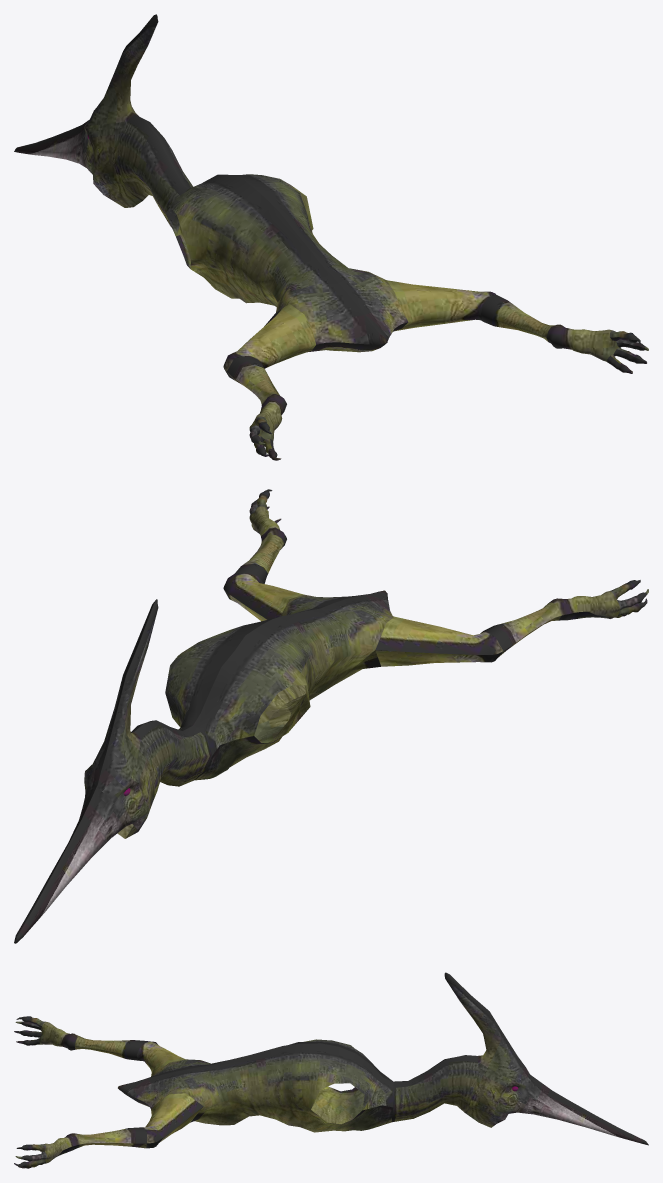
The model's file is D2_torso.obj.
The picture shows the model from 3 angles, top to bottom: view 1: azimuth 30°, elevation 25°; view 2: azimuth 150°, elevation 25°; view 3: azimuth 270°, elevation 25°; orthographic projection. The views are drawn at different scales.
Parts seen in each view (by area): view 1: D2.001; view 2: D2.001; view 3: D2.001.
Part boxes in pixels (bbox=[...]): D2.001: bbox=[14, 14, 648, 460]; D2.001: bbox=[14, 489, 648, 943]; D2.001: bbox=[14, 972, 648, 1168].
Size of the model in its own units: 14.37 by 8.48 by 28.24.
Materials: 1 (1 with a texture image).
